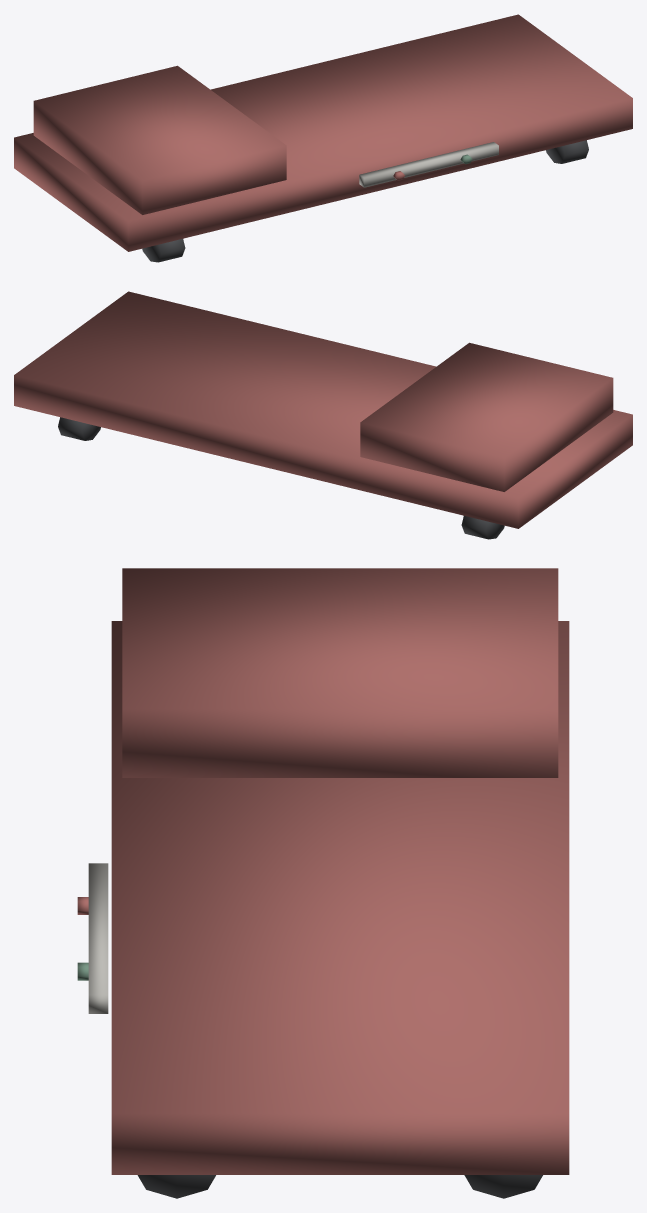
The model's file is mechanic_creeper__squat.glb.
The picture shows the model from 3 angles, top to bottom: view 1: azimuth 30°, elevation 25°; view 2: azimuth 150°, elevation 25°; view 3: azimuth 270°, elevation 25°; orthographic projection. The views are drawn at different scales.
Parts seen in each view (by area): view 1: world; view 2: world; view 3: world.
Boxes of the visible parts, x1=… form: world: x1=14, y1=14, x2=632, y2=262; world: x1=14, y1=291, x2=632, y2=539; world: x1=77, y1=568, x2=569, y2=1198.
Size of the model in its own units: 1.15 by 0.21 by 0.4871.
